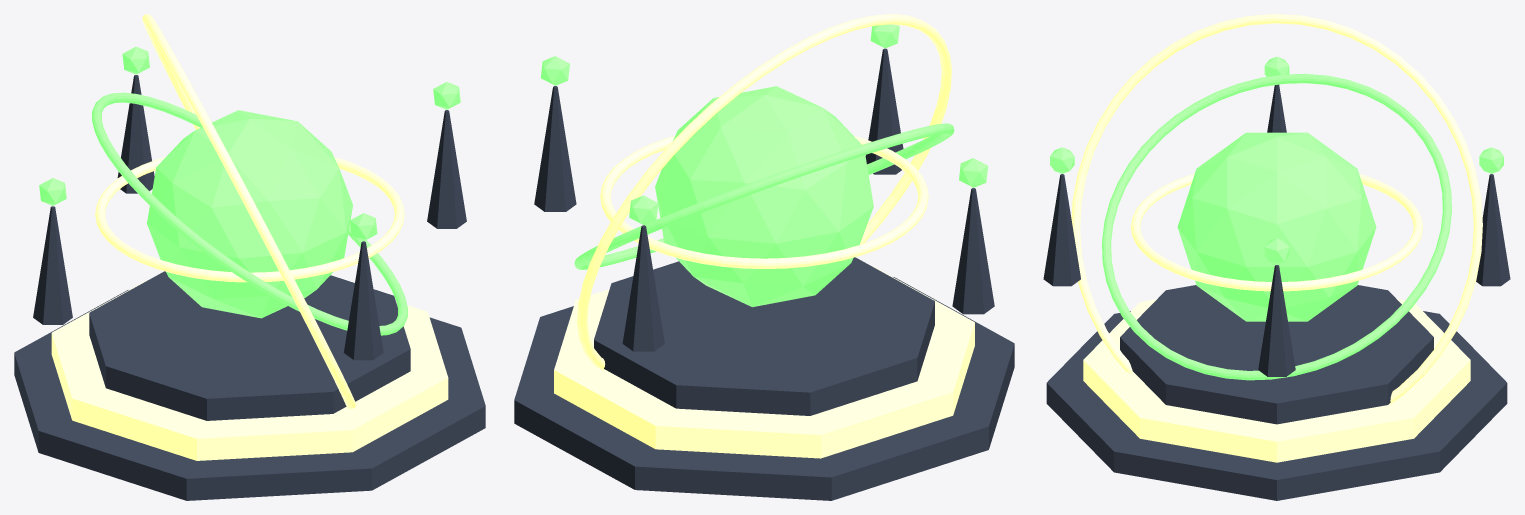
The model's file is gpu-blender-v35.glb.
3 renders of one model, left to right at view 1: azimuth 30°, elevation 25°; view 2: azimuth 150°, elevation 25°; view 3: azimuth 270°, elevation 25°, orthographic. The views are drawn at different scales.
Visible parts, largest first — view 1: Cylinder.002, SovereignCore_pod-margin-sentinel, Cylinder, Cylinder.001, Torus.001, Torus.002, Torus, Cone.003, Cone, Cone.002, Cone.001, Icosphere.002 (+3 smaller); view 2: Cylinder.002, SovereignCore_pod-margin-sentinel, Cylinder, Cylinder.001, Torus.002, Torus, Torus.001, Cone.002, Cone.001, Cone, Cone.003, Icosphere (+3 smaller); view 3: SovereignCore_pod-margin-sentinel, Cylinder.002, Cylinder, Cylinder.001, Torus.001, Torus.002, Torus, Cone.003, Cone, Cone.001, Cone.002, Icosphere (+2 smaller).
Boxes of the visible parts, x1=… form: Cylinder.002: x1=89, y1=271, x2=410, y2=420; SovereignCore_pod-margin-sentinel: x1=147, y1=110, x2=352, y2=318; Cylinder: x1=14, y1=290, x2=485, y2=500; Cylinder.001: x1=51, y1=280, x2=448, y2=460; Torus.001: x1=92, y1=92, x2=407, y2=335; Torus.002: x1=142, y1=14, x2=356, y2=408; Torus: x1=95, y1=157, x2=404, y2=282; Cone.003: x1=343, y1=241, x2=383, y2=360; Cone: x1=427, y1=110, x2=466, y2=228; Cone.002: x1=33, y1=206, x2=72, y2=324; Cone.001: x1=117, y1=75, x2=154, y2=193; Icosphere.002: x1=39, y1=178, x2=66, y2=205; Cylinder.002: x1=594, y1=257, x2=934, y2=415; SovereignCore_pod-margin-sentinel: x1=655, y1=86, x2=873, y2=307; Cylinder: x1=514, y1=277, x2=1014, y2=500; Cylinder.001: x1=554, y1=266, x2=974, y2=458; Torus.002: x1=577, y1=14, x2=951, y2=369; Torus: x1=600, y1=136, x2=928, y2=268; Torus.001: x1=574, y1=123, x2=954, y2=269; Cone.002: x1=952, y1=188, x2=994, y2=314; Cone.001: x1=622, y1=225, x2=664, y2=351; Cone: x1=534, y1=86, x2=576, y2=211; Cone.003: x1=865, y1=48, x2=903, y2=174; Icosphere: x1=540, y1=56, x2=569, y2=85; SovereignCore_pod-margin-sentinel: x1=1177, y1=132, x2=1376, y2=321; Cylinder.002: x1=1120, y1=285, x2=1433, y2=424; Cylinder: x1=1046, y1=311, x2=1507, y2=500; Cylinder.001: x1=1083, y1=299, x2=1470, y2=462; Torus.001: x1=1102, y1=73, x2=1451, y2=380; Torus.002: x1=1071, y1=14, x2=1482, y2=403; Torus: x1=1131, y1=174, x2=1422, y2=291; Cone.003: x1=1043, y1=174, x2=1080, y2=286; Cone: x1=1258, y1=265, x2=1295, y2=376; Cone.001: x1=1476, y1=174, x2=1510, y2=286; Cone.002: x1=1267, y1=84, x2=1286, y2=132; Icosphere: x1=1264, y1=238, x2=1289, y2=264.
Size of the model in its own units: 4.41 by 3.72 by 4.46.
